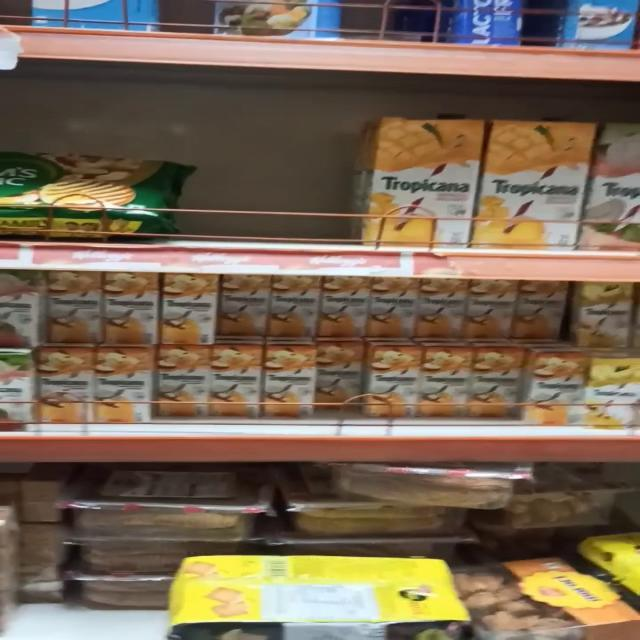Tropicana: (362, 109, 478, 246), (482, 112, 583, 246), (153, 272, 213, 350), (206, 270, 270, 340), (33, 352, 94, 422), (528, 352, 580, 429), (106, 271, 160, 344), (51, 272, 106, 342), (96, 349, 152, 417), (208, 342, 260, 412), (157, 348, 212, 412), (424, 346, 476, 413), (371, 346, 423, 413), (317, 277, 369, 339), (367, 272, 417, 336), (473, 351, 523, 414), (264, 348, 316, 408), (313, 342, 364, 403), (270, 276, 316, 340), (422, 278, 467, 339), (468, 277, 511, 338), (512, 280, 556, 338)
